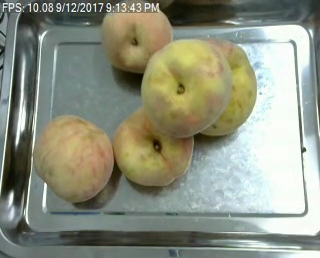Peach: (140, 36, 232, 138), (111, 100, 199, 184), (34, 114, 115, 204), (100, 1, 173, 74)
